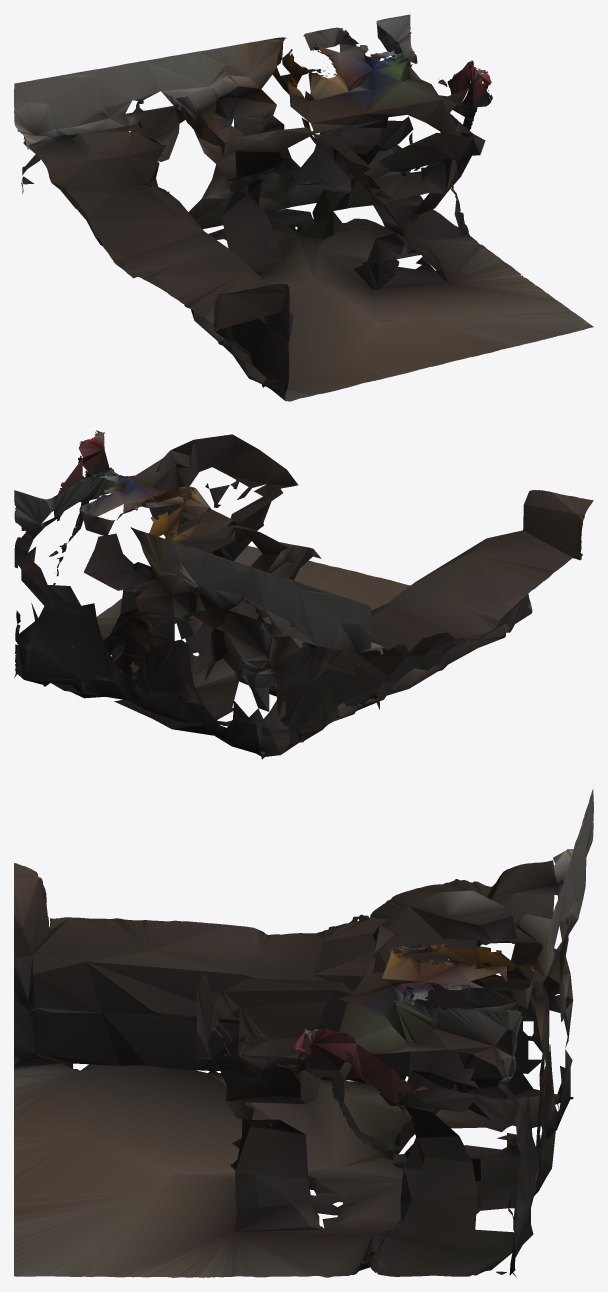
File: coarse.glb
3 views of the same model, one above another, from view 1: azimuth 30°, elevation 25°; view 2: azimuth 150°, elevation 25°; view 3: azimuth 270°, elevation 25° (orthographic). The views are drawn at different scales.
Size of the model in its own units: 1.94 by 0.9214 by 1.94.
